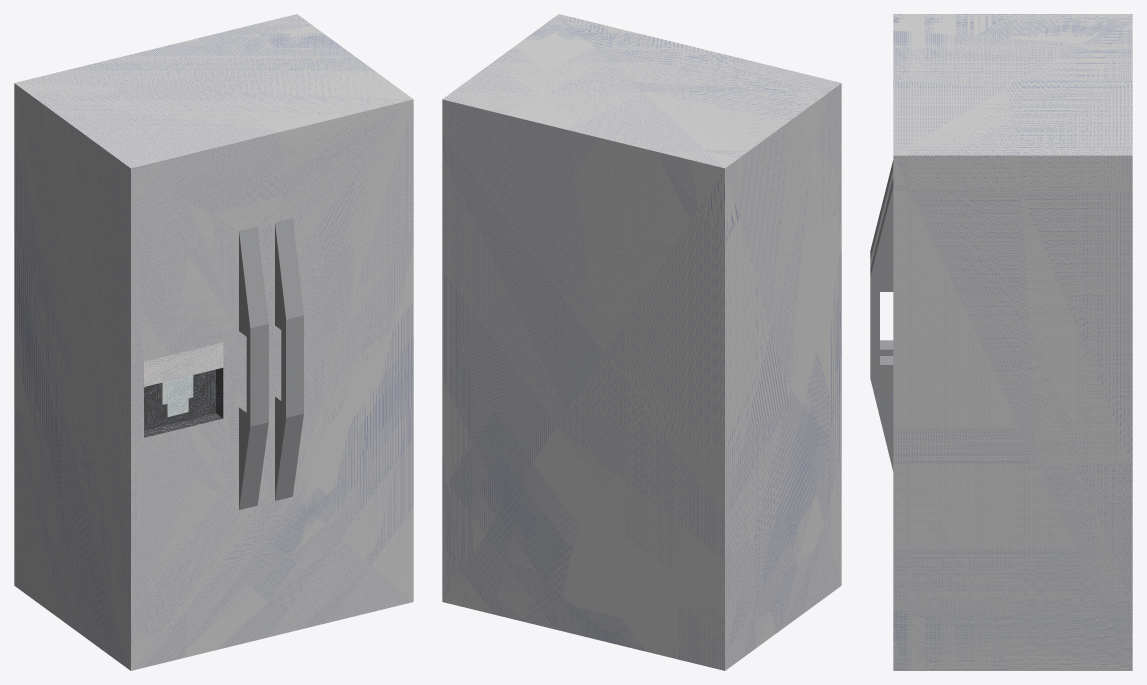
Rendered from fridge.dae.
3 renders of one model, left to right at view 1: azimuth 30°, elevation 25°; view 2: azimuth 150°, elevation 25°; view 3: azimuth 270°, elevation 25°, orthographic. The views are drawn at different scales.
Visible parts, largest first — view 1: skpwt9vS6 (×6); view 2: skpwt9vS6; view 3: skpwt9vS6 (×3).
Part boxes in pixels (x1,y1,x2,y2): skpwt9vS6 (×6): (14, 14, 413, 670); skpwt9vS6: (442, 14, 841, 670); skpwt9vS6 (×3): (870, 14, 1132, 670).
Size of the model in its own units: 68.9 by 53.94 by 117.
